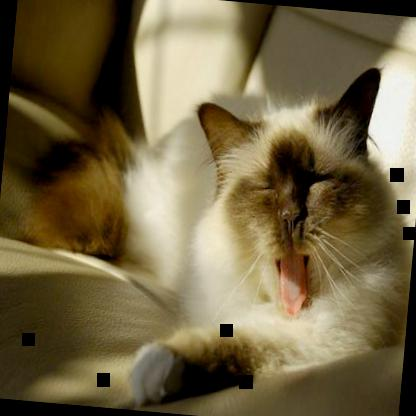cat: (28, 40, 415, 415)
